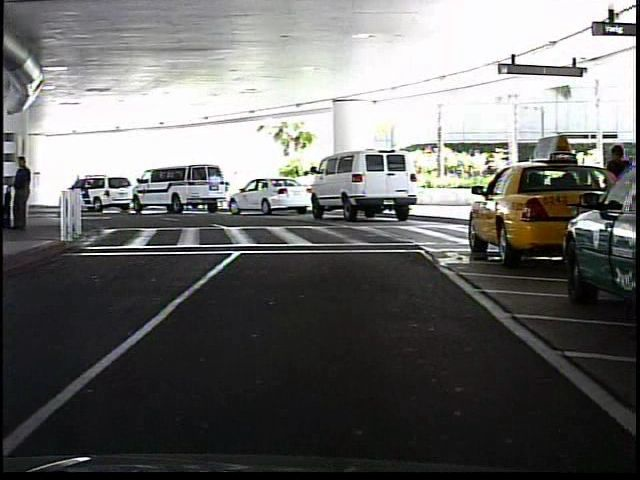person: (603, 141, 637, 253), (16, 152, 35, 233)
